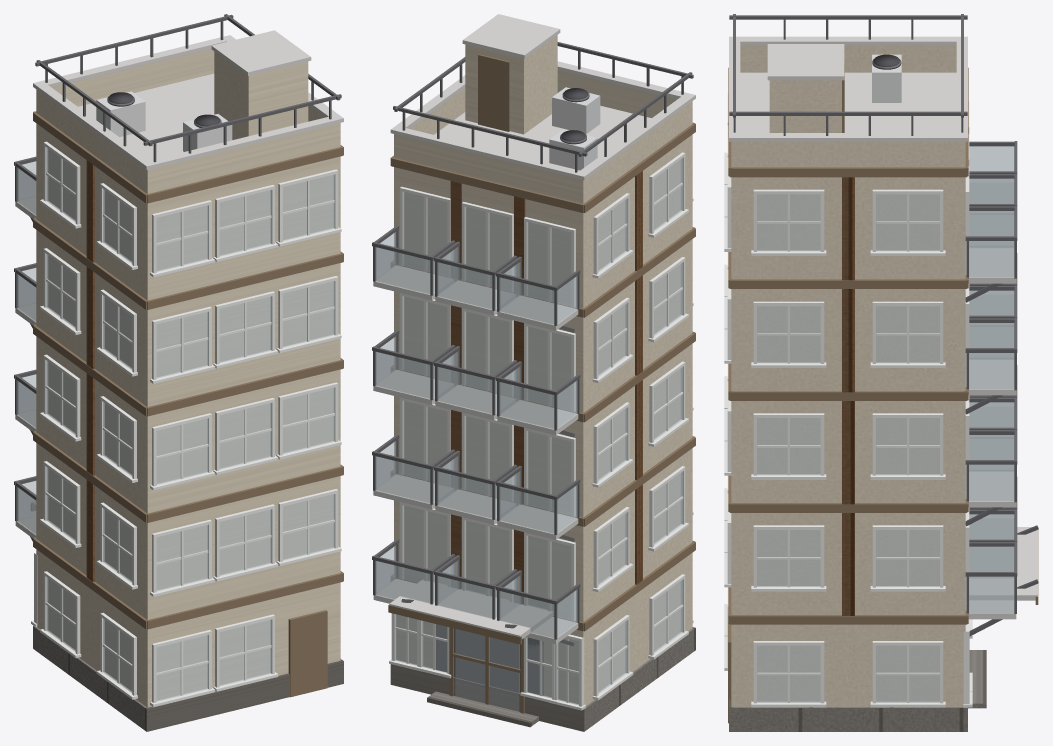
The model's file is menara-1-blender-v1.glb.
The picture shows the model from 3 angles, left to right: view 1: azimuth 30°, elevation 25°; view 2: azimuth 150°, elevation 25°; view 3: azimuth 270°, elevation 25°; orthographic projection. The views are drawn at different scales.
Visible parts, largest first — view 1: Walls, Glass, Frames, Trim, Metal, Roof, Balcony; view 2: Walls, Glass, Frames, Balcony, Trim, Metal, Roof; view 3: Walls, Glass, Frames, Trim, Metal, Balcony, Roof.
Boxes of the visible parts, x1,y1,x2,y2 form: Walls: (33,35,343,731); Glass: (17,147,334,701); Frames: (31,141,341,707); Trim: (33,111,343,629); Metal: (14,14,341,697); Roof: (96,30,311,151); Balcony: (15,196,36,538); Walls: (390,35,695,731); Glass: (375,158,682,711); Frames: (389,152,693,710); Balcony: (373,265,578,644); Trim: (388,122,695,644); Metal: (372,42,693,713); Roof: (462,14,600,170); Walls: (729,36,986,731); Glass: (757,146,1014,702); Frames: (724,93,972,707); Trim: (728,67,1038,624); Metal: (728,14,1038,723); Balcony: (968,248,1037,619); Roof: (767,44,901,132).
Size of the model in its own units: 5.83 by 16.8 by 7.38.
10 materials, 3 textured.
